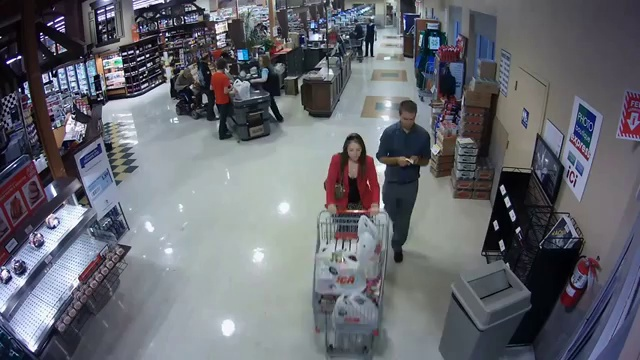face: (346, 142, 362, 161), (400, 110, 415, 128)
